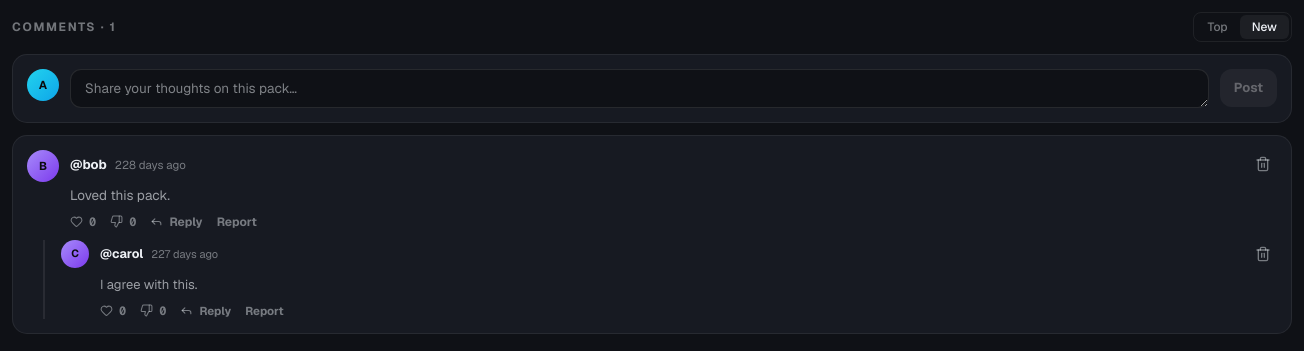
Test: CommentSection › threading (replies) › deletes a reply and drops it from its root without touching the count
Expected: the text "I agree with this." is shown, [100,276,197,293]
Click the button named "Delete comment" in the row of "227 days ago" at (1263, 254), box [1249,240,1277,268]
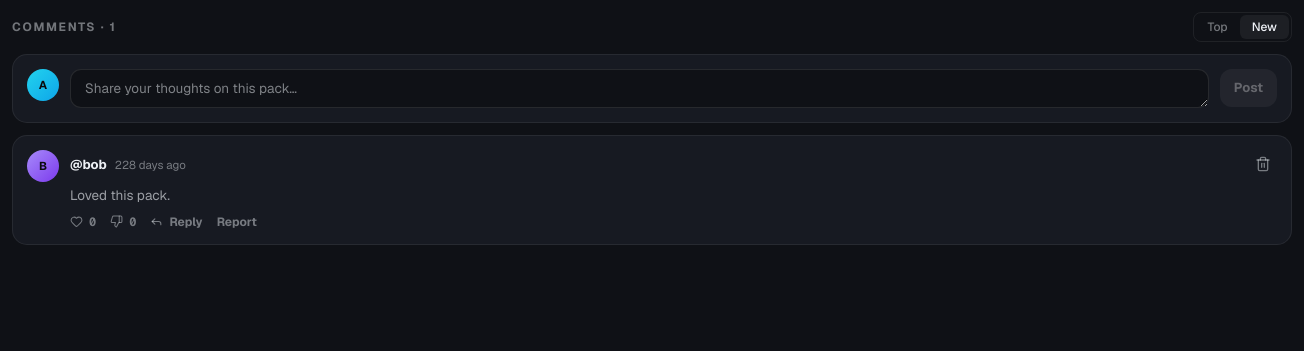
Expected: the heading "Comments · 1" is shown, [12,19,117,35]
Expected: the text "I agree with this." is gone
